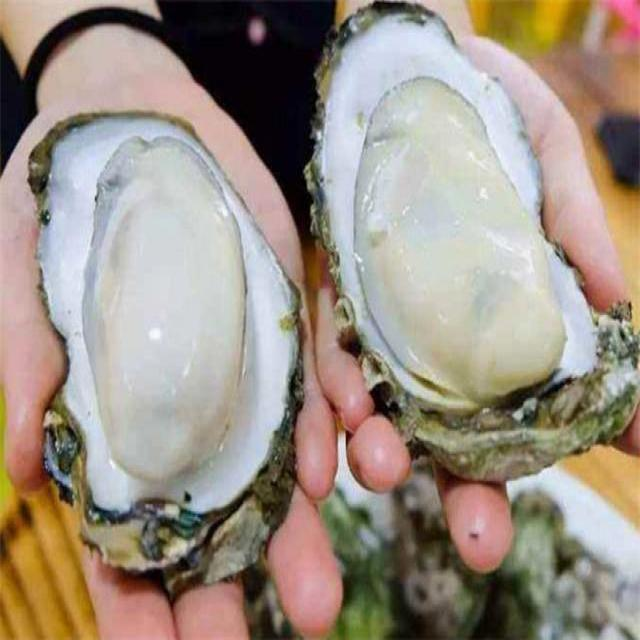Oyster-Open: (293, 0, 640, 506), (13, 100, 312, 608)
